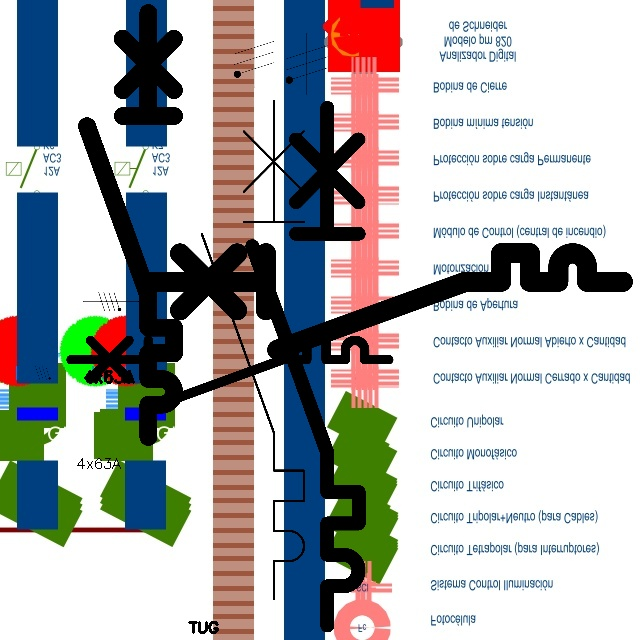interruptor_termomagnetico: (239, 94, 372, 638), (189, 88, 317, 612), (139, 241, 635, 362), (76, 2, 185, 448), (62, 332, 396, 414)
